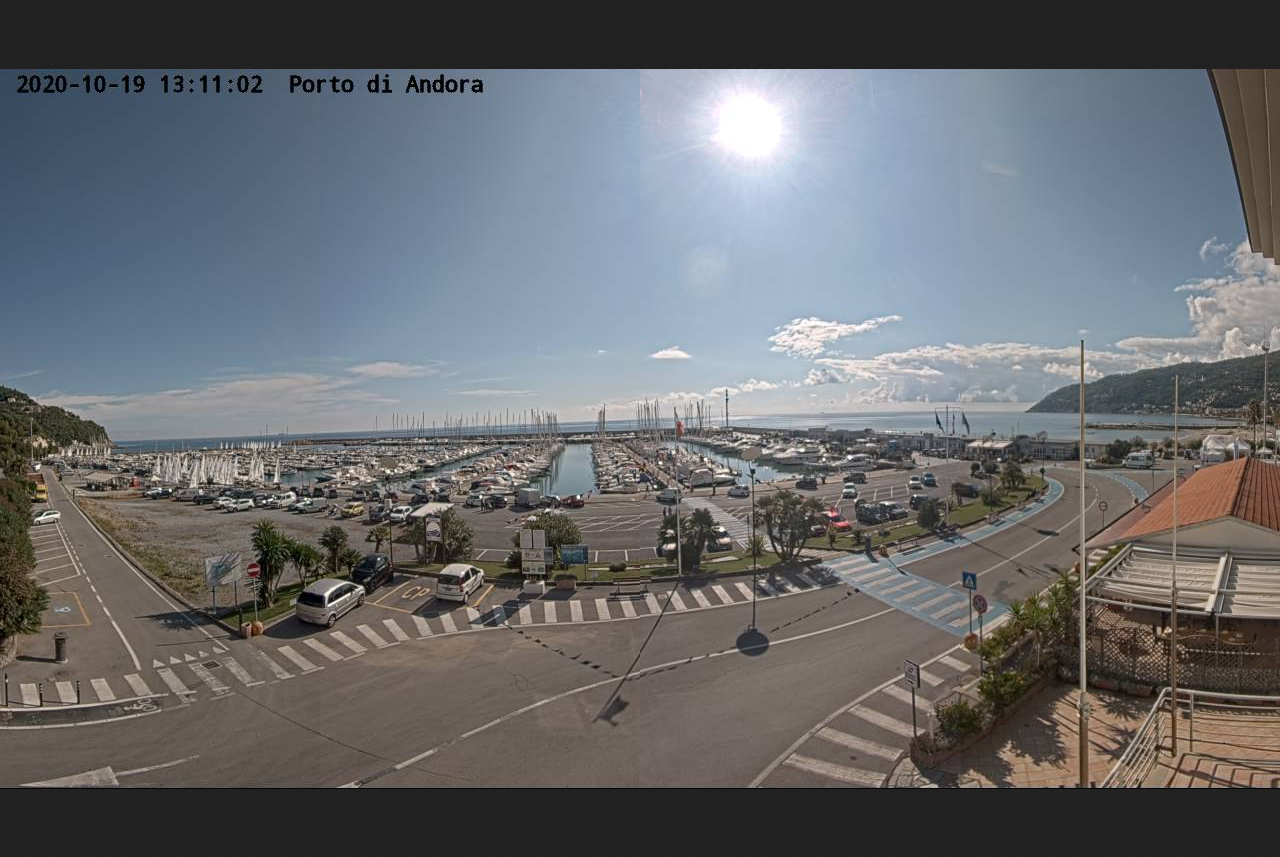maybe: (934, 407, 946, 437), (960, 409, 972, 435)
no: (673, 410, 684, 437)
